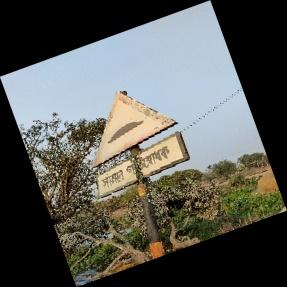Speed-breaker: (92, 91, 189, 199)
